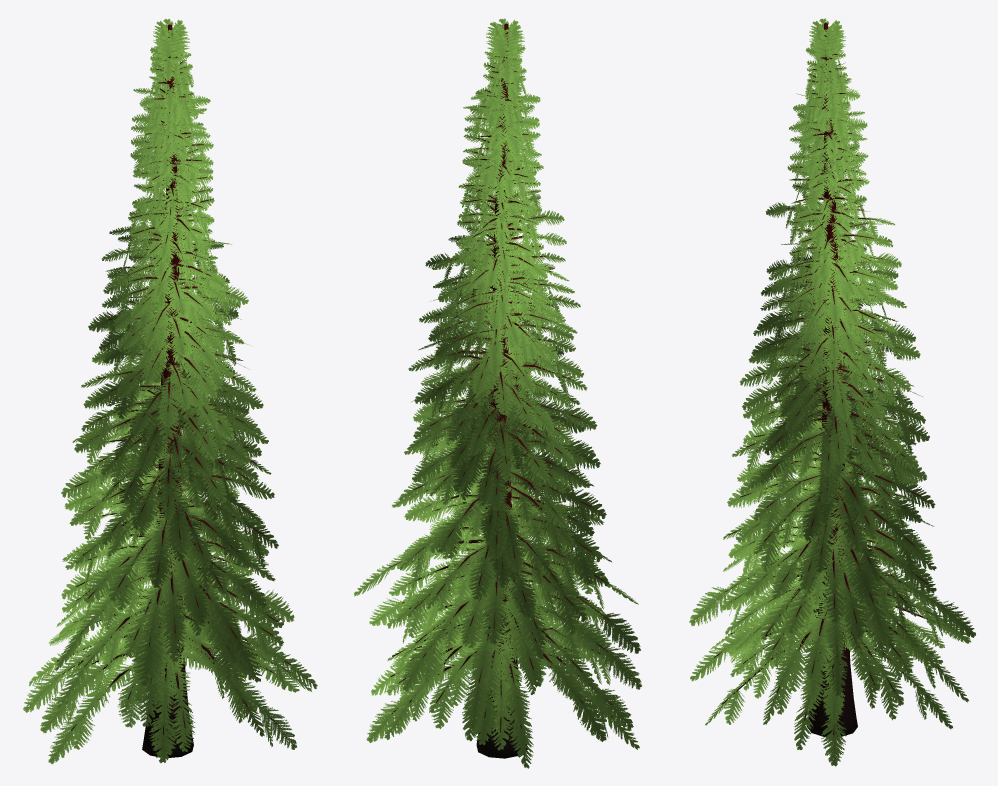
The model's file is baldcypress_v01_LOD1.glb.
The picture shows the model from 3 angles, left to right: view 1: azimuth 30°, elevation 25°; view 2: azimuth 150°, elevation 25°; view 3: azimuth 270°, elevation 25°; orthographic projection. The views are drawn at different scales.
Visible parts, largest first — view 1: baldcypress_v01_LOD1; view 2: baldcypress_v01_LOD1; view 3: baldcypress_v01_LOD1.
Boxes of the visible parts, x1=… form: baldcypress_v01_LOD1: x1=23, y1=18, x2=317, y2=764; baldcypress_v01_LOD1: x1=354, y1=18, x2=641, y2=768; baldcypress_v01_LOD1: x1=689, y1=18, x2=975, y2=766.
Size of the model in its own units: 8.7 by 22.2 by 8.62.
Materials: 2 (2 with a texture image).
